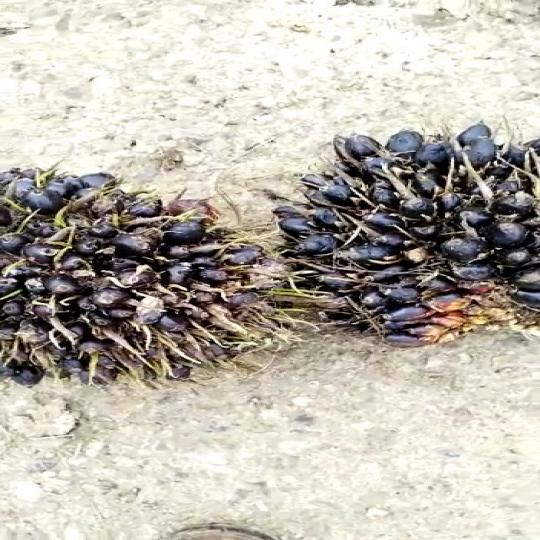mentah: (259, 115, 540, 373), (0, 152, 282, 394)
